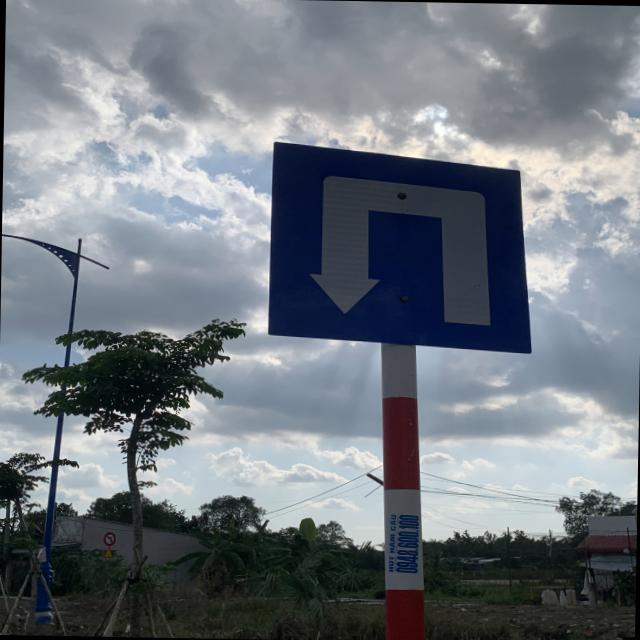Den_Giao_Thong: (271, 141, 534, 354)
